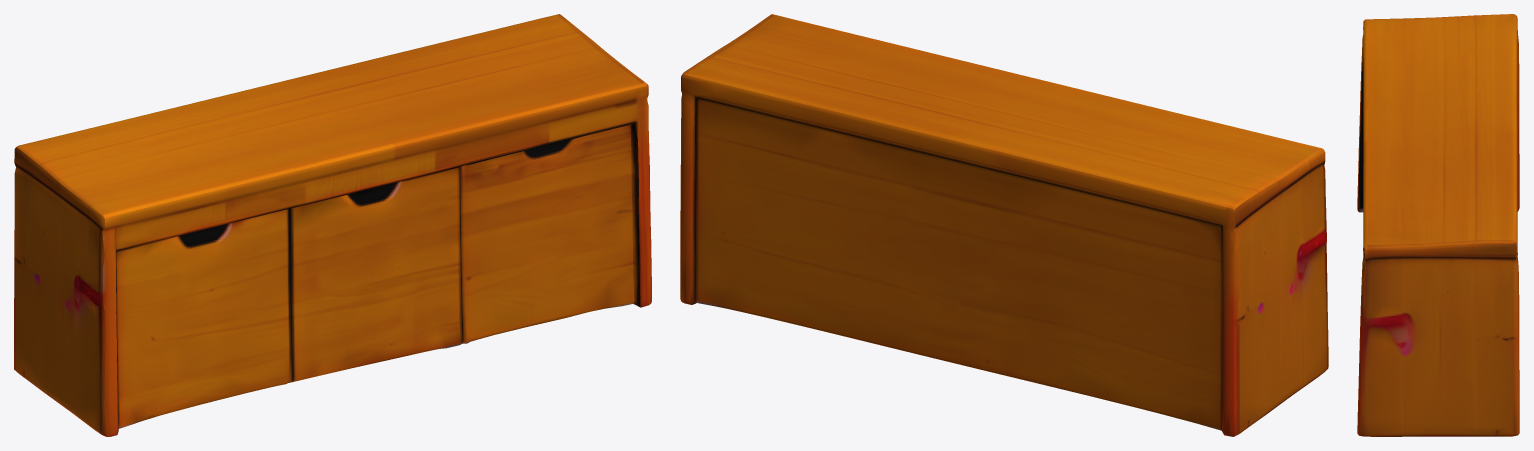
Rendered from MeubleSalon2_3D_textured.glb.
3 renders of one model, left to right at view 1: azimuth 30°, elevation 25°; view 2: azimuth 150°, elevation 25°; view 3: azimuth 270°, elevation 25°, orthographic. The views are drawn at different scales.
Parts seen in each view (by area): view 1: temp_mesh.ply; view 2: temp_mesh.ply; view 3: temp_mesh.ply.
Part boxes in pixels (<box>): temp_mesh.ply: <box>14,14,651,436</box>; temp_mesh.ply: <box>680,14,1328,436</box>; temp_mesh.ply: <box>1357,14,1519,436</box>.
Size of the model in its own units: 1.97 by 0.7725 by 0.5809.
1 material, 1 textured.
